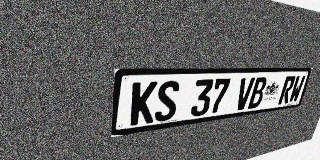3: (190, 79, 214, 117)
7: (208, 78, 231, 115)
B: (248, 77, 268, 109)
K: (130, 81, 158, 126)
R: (278, 76, 296, 105)
S: (154, 80, 180, 122)
V: (234, 78, 255, 111)
W: (288, 76, 306, 103)
